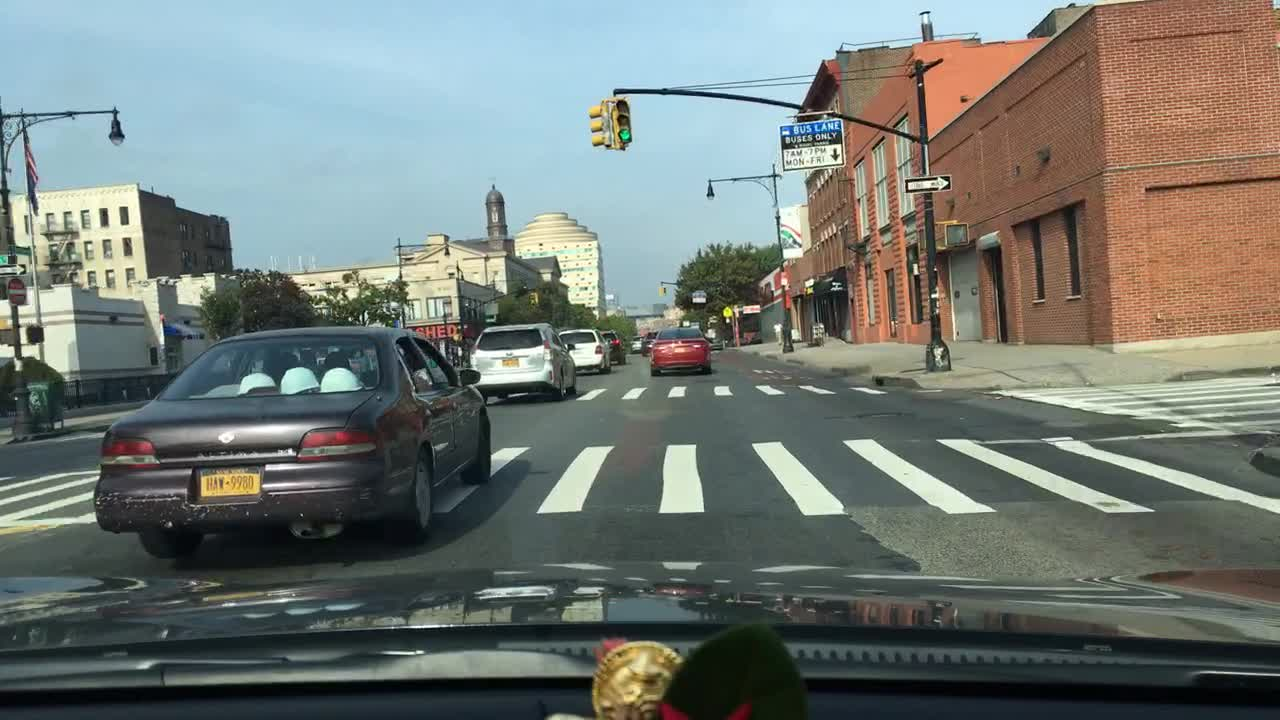car: (96, 325, 491, 558), (469, 321, 577, 403), (650, 319, 714, 376), (560, 325, 611, 376), (603, 331, 625, 368), (638, 326, 661, 360), (628, 331, 641, 354)
person: (771, 319, 784, 345)
traffic light: (586, 104, 613, 149), (611, 98, 633, 147), (945, 224, 970, 245), (526, 291, 539, 306), (662, 285, 666, 296)
traffic sign: (777, 117, 844, 172), (900, 172, 952, 194), (7, 277, 26, 306), (0, 264, 29, 275), (9, 245, 32, 255), (691, 290, 707, 301), (746, 304, 764, 311), (724, 308, 734, 318), (0, 255, 8, 265)
